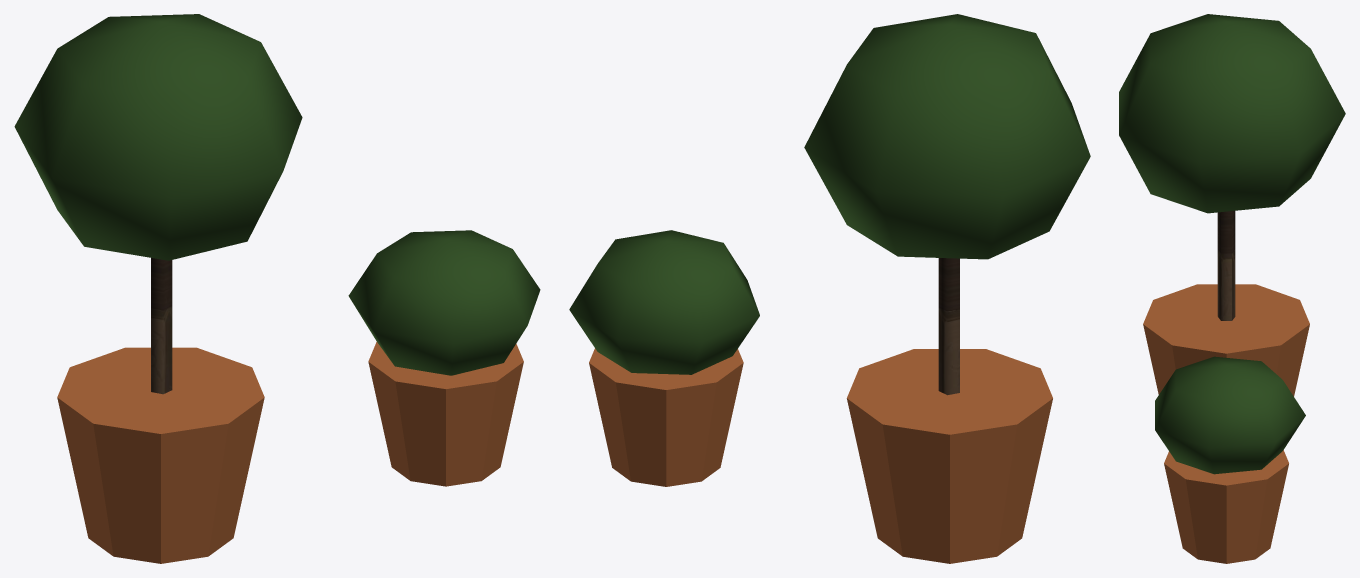
File: terracotta_pot.glb
The picture shows the model from 3 angles, left to right: view 1: azimuth 30°, elevation 25°; view 2: azimuth 150°, elevation 25°; view 3: azimuth 270°, elevation 25°; orthographic projection. The views are drawn at different scales.
Parts seen in each view (by area): view 1: terracotta_pot; view 2: terracotta_pot; view 3: terracotta_pot.
Boxes of the visible parts, box(x1,y1,x2,y2) form: terracotta_pot: box(14, 14, 540, 563); terracotta_pot: box(569, 14, 1090, 563); terracotta_pot: box(1119, 14, 1345, 563).
Size of the model in its own units: 1.73 by 1.71 by 0.8554.
3 materials, 1 textured.
